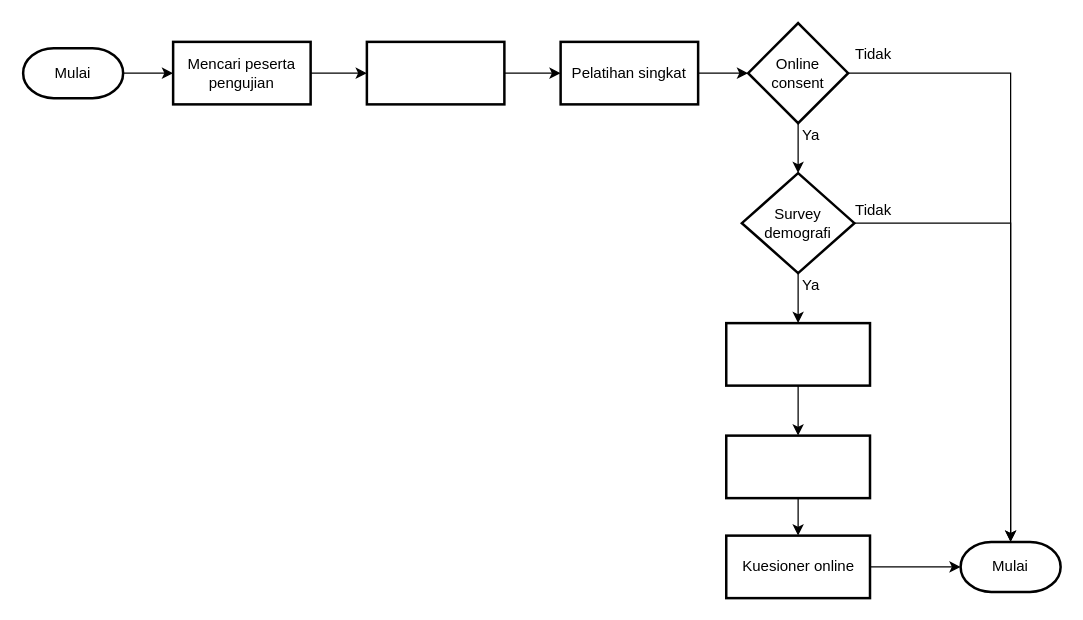
This 1083x620 diagram has some shape labels left out. The box of each missing label's shape, as (x1, y1, x2, y2) in pixels:
Mencoba fasilitas penjelajahan dan pencarian: (724, 321, 871, 386)
Menjawab tugas penjelajahan dan pencarian: (724, 434, 871, 499)
Partisipan: (365, 40, 505, 105)
